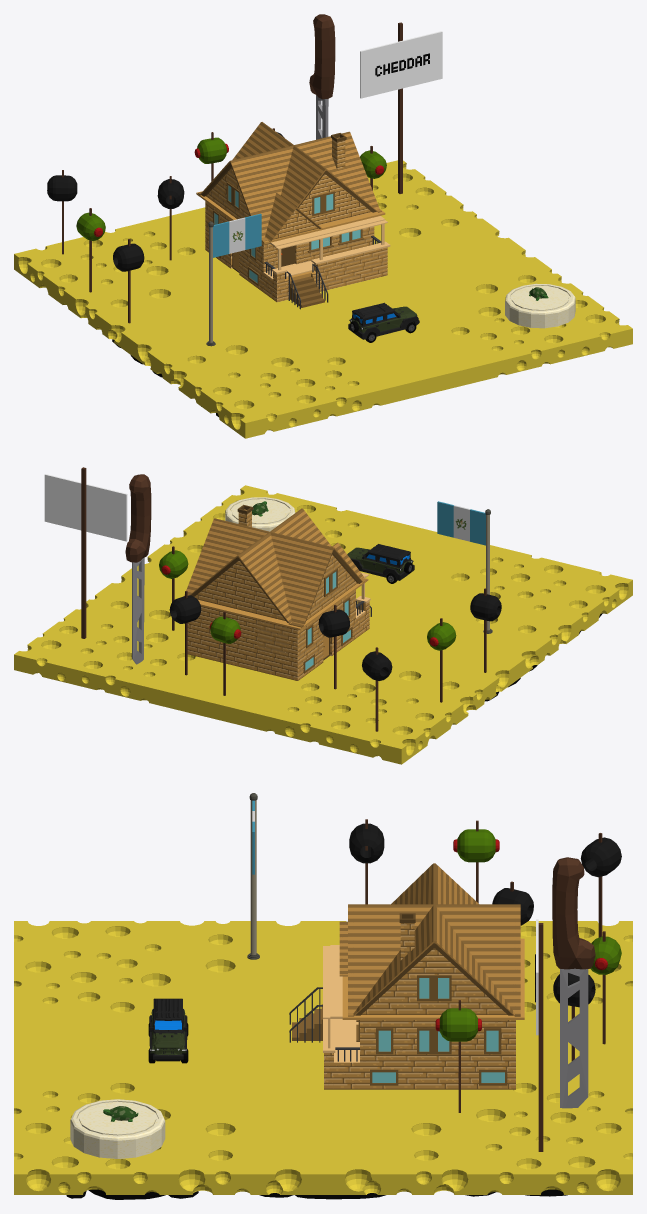
3 renders of one model, top to bottom at view 1: azimuth 30°, elevation 25°; view 2: azimuth 150°, elevation 25°; view 3: azimuth 270°, elevation 25°, orthographic. The views are drawn at different scales.
Visible parts, largest first — view 1: Cube.022, Cube.508, Cube.023, Cylinder.016, Cube.024, OBJRANDOM_GUATEMALAN_FLAG, VEHICLES_JEEP, Sphere.017, Sphere.016, Sphere.020, Sphere.018, Sphere.022 (+1 smaller); view 2: Cube.022, Cube.508, Cube.023, Cube.024, OBJRANDOM_GUATEMALAN_FLAG, VEHICLES_JEEP, Cylinder.016, Sphere.016, Sphere.017, Sphere.020, Sphere.021, Sphere.022 (+2 smaller); view 3: Cube.022, Cube.508, Cube.024, Cylinder.016, VEHICLES_JEEP, Cube.023, Sphere.016, Sphere.019, Sphere.018, Sphere.017, Curve.014, Sphere.022 (+3 smaller).
Part boxes in pixels (box(x1,y1,x2,y2)): Cube.022: box(14, 160, 632, 438); Cube.508: box(196, 122, 390, 309); Cube.023: box(360, 22, 442, 193); Cylinder.016: box(505, 283, 575, 328); Cube.024: box(309, 14, 335, 139); OBJRANDOM_GUATEMALAN_FLAG: box(206, 213, 261, 346); VEHICLES_JEEP: box(348, 302, 419, 342); Sphere.017: box(113, 239, 144, 323); Sphere.016: box(47, 170, 77, 254); Sphere.020: box(157, 176, 184, 260); Sphere.018: box(76, 208, 105, 292); Sphere.022: box(194, 132, 228, 181); Cube.022: box(14, 485, 632, 764); Cube.508: box(183, 504, 371, 680); Cube.023: box(44, 467, 127, 638); Cube.024: box(125, 474, 151, 664); OBJRANDOM_GUATEMALAN_FLAG: box(437, 501, 492, 633); VEHICLES_JEEP: box(347, 544, 414, 583); Cylinder.016: box(225, 497, 295, 531); Sphere.016: box(362, 647, 392, 731); Sphere.017: box(470, 588, 501, 672); Sphere.020: box(318, 605, 349, 689); Sphere.021: box(169, 591, 201, 675); Sphere.022: box(209, 611, 241, 695); Cube.022: box(14, 921, 632, 1194); Cube.508: box(289, 863, 524, 1089); Cube.024: box(552, 857, 595, 1108); Cylinder.016: box(70, 1099, 165, 1158); VEHICLES_JEEP: box(148, 998, 188, 1063); Cube.023: box(535, 919, 543, 1151); Sphere.016: box(580, 833, 621, 937); Sphere.019: box(435, 1000, 481, 1112); Sphere.018: box(453, 820, 499, 902); Sphere.017: box(349, 819, 384, 904); Curve.014: box(66, 1189, 567, 1199); Sphere.022: box(590, 931, 621, 1044).
Bounding box in the file's own units: 3917 × 1980 × 4000.
41 materials, 4 textured.
